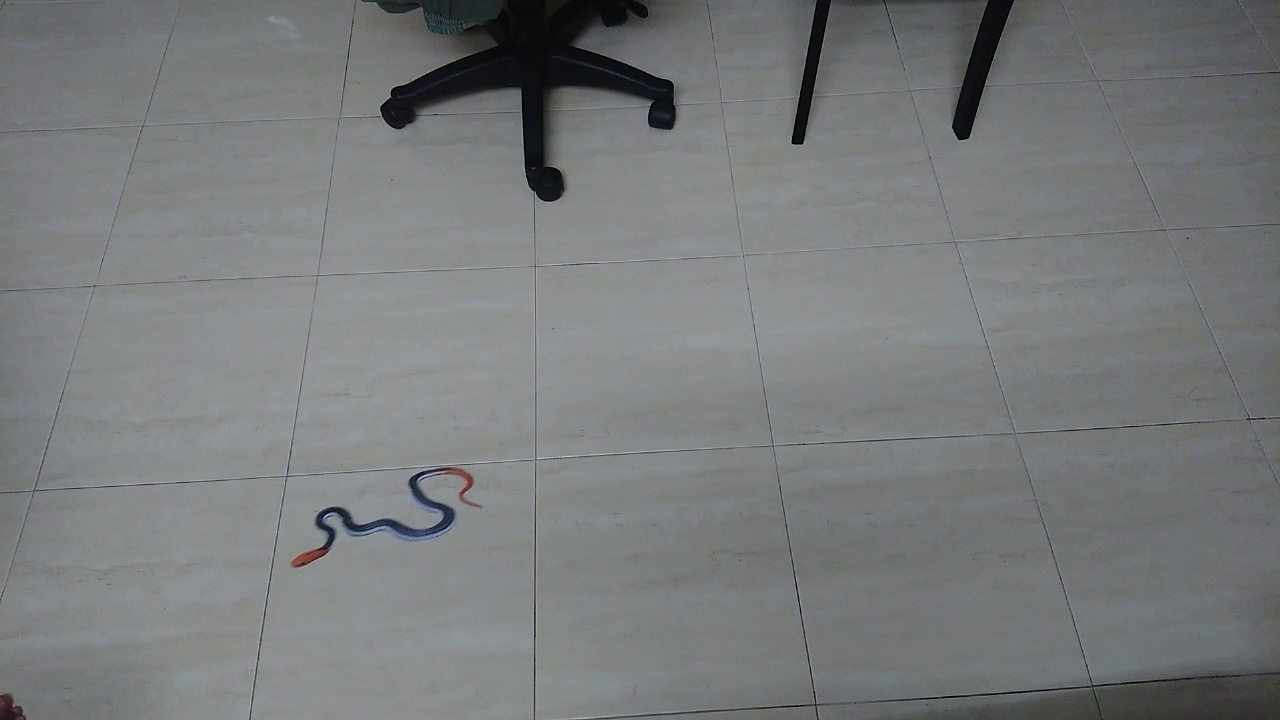snake: (277, 459, 495, 578)
